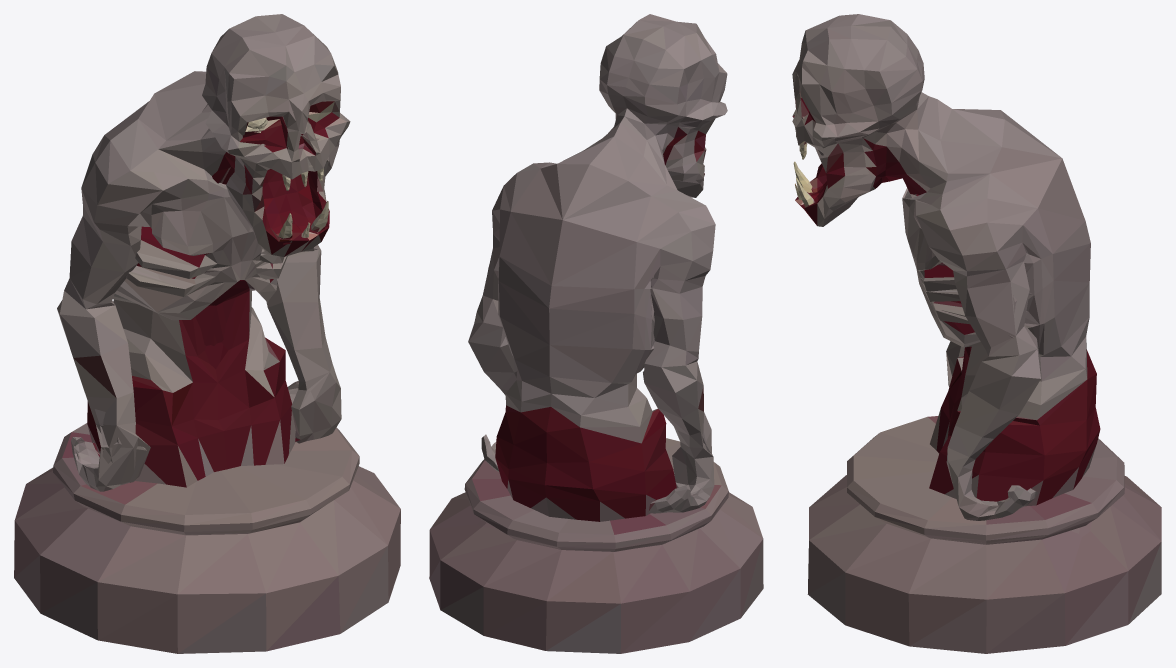
File: goule.glb
3 renders of one model, left to right at view 1: azimuth 30°, elevation 25°; view 2: azimuth 150°, elevation 25°; view 3: azimuth 270°, elevation 25°, orthographic. The views are drawn at different scales.
Visible parts, largest first — view 1: mesh_node; view 2: mesh_node; view 3: mesh_node.
Part boxes in pixels (bbox=[...]): mesh_node: bbox=[14, 14, 400, 653]; mesh_node: bbox=[429, 14, 763, 653]; mesh_node: bbox=[792, 14, 1161, 653].
Size of the model in its own units: 0.591 by 1 by 0.6086.
